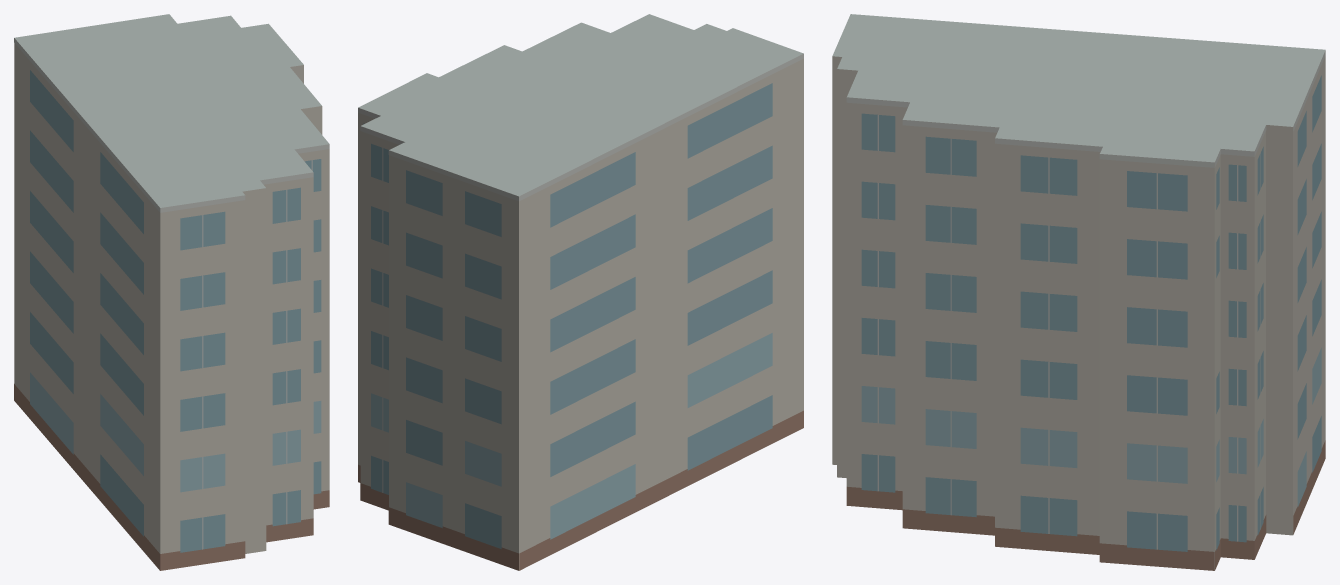
File: survey-upis-32754446.glb
3 views of the same model, side by side, from view 1: azimuth 30°, elevation 25°; view 2: azimuth 150°, elevation 25°; view 3: azimuth 270°, elevation 25° (orthographic). The views are drawn at different scales.
Parts seen in each view (by area): view 1: survey-upis-32754446.tmp; view 2: survey-upis-32754446.tmp; view 3: survey-upis-32754446.tmp.
Boxes of the visible parts, x1=… form: survey-upis-32754446.tmp: x1=14, y1=14, x2=329, y2=570; survey-upis-32754446.tmp: x1=358, y1=14, x2=803, y2=570; survey-upis-32754446.tmp: x1=832, y1=14, x2=1325, y2=570.
Size of the model in its own units: 14.27 by 18.3 by 20.05.
